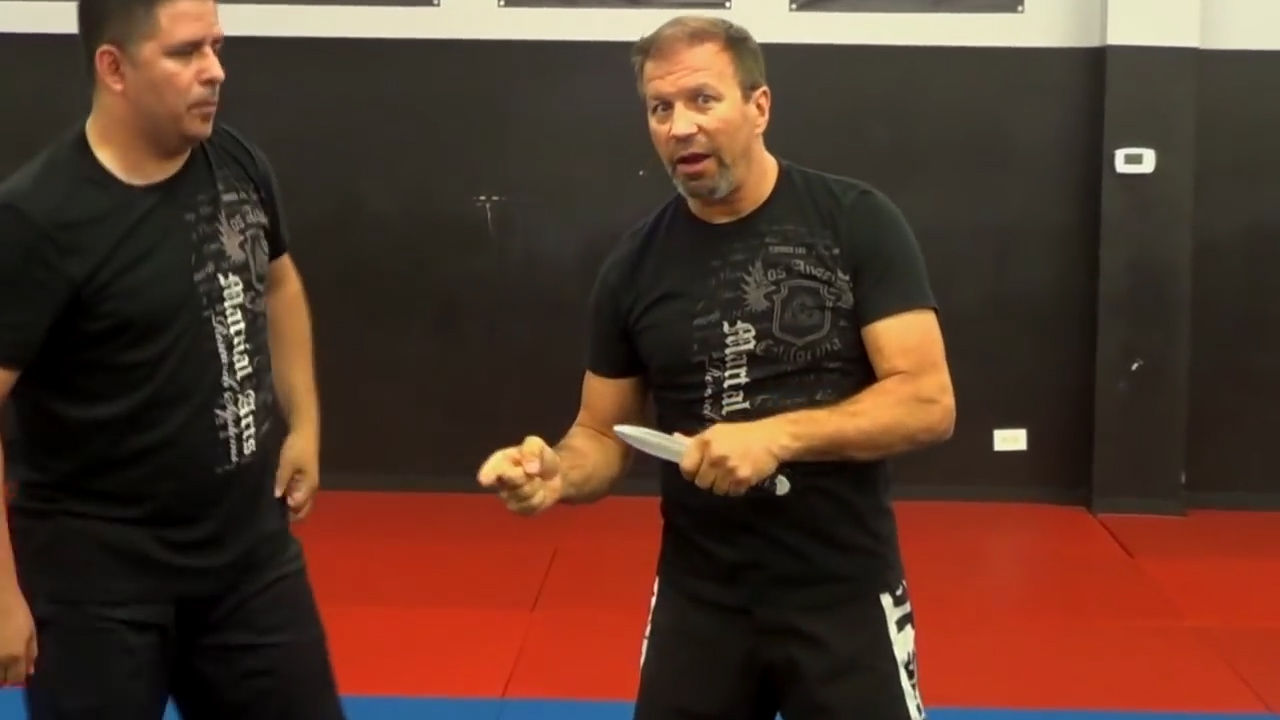knife: (607, 414, 800, 504)
